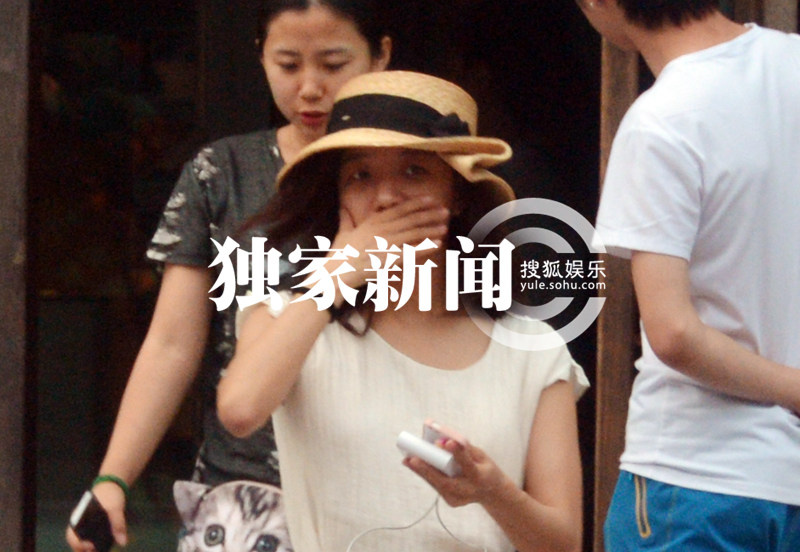face: (336, 139, 455, 267), (261, 9, 372, 136)
